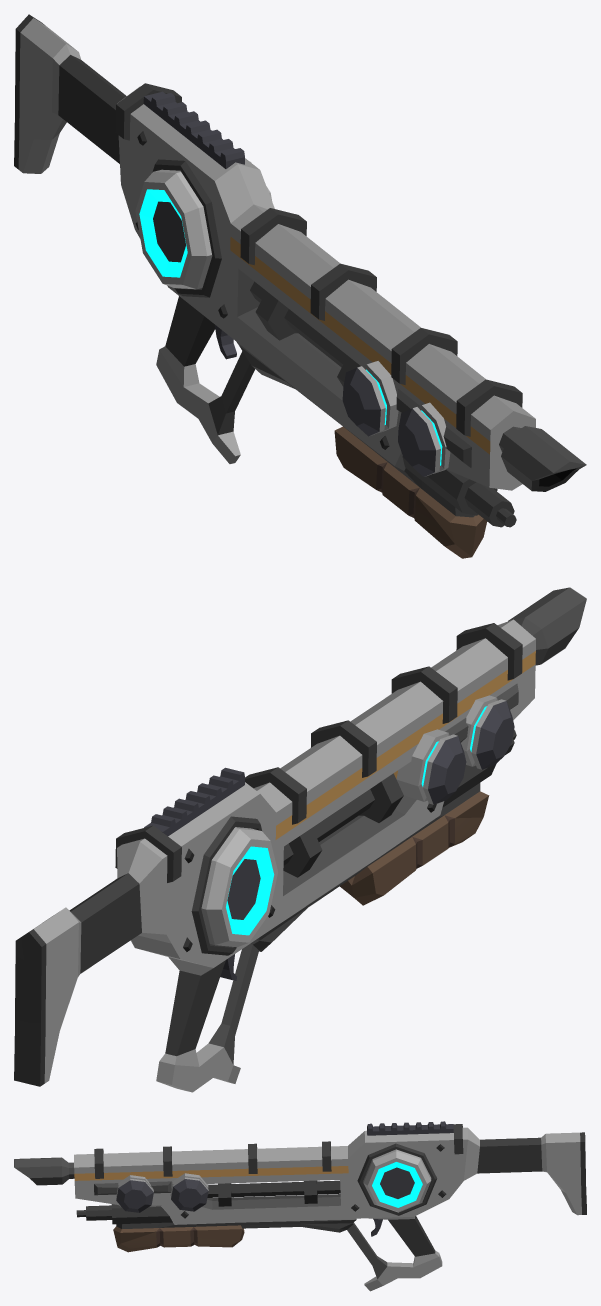
Rendered from Weapon14.fbx.
3 renders of one model, top to bottom at view 1: azimuth 30°, elevation 25°; view 2: azimuth 150°, elevation 25°; view 3: azimuth 270°, elevation 25°, orthographic. The views are drawn at different scales.
Visible parts, largest first — view 1: SM_Wep_Rifle_Laser_01, SM_Wep_Rifle_Laser_Mag_01, SM_Wep_Mag_Round_01, SM_Wep_Mag_Round_01__1_; view 2: SM_Wep_Rifle_Laser_01, SM_Wep_Rifle_Laser_Mag_01, SM_Wep_Mag_Round_01, SM_Wep_Mag_Round_01__1_; view 3: SM_Wep_Rifle_Laser_01, SM_Wep_Rifle_Laser_Mag_01, SM_Wep_Mag_Round_01__3_, SM_Wep_Mag_Round_01__2_.
Part boxes in pixels (left/top/right/bottom): SM_Wep_Rifle_Laser_01: left=14, top=14, right=586, bottom=558; SM_Wep_Rifle_Laser_Mag_01: left=135, top=161, right=271, bottom=289; SM_Wep_Mag_Round_01: left=342, top=361, right=398, bottom=436; SM_Wep_Mag_Round_01__1_: left=398, top=402, right=450, bottom=476; SM_Wep_Rifle_Laser_01: left=14, top=587, right=586, bottom=1092; SM_Wep_Rifle_Laser_Mag_01: left=201, top=827, right=277, bottom=947; SM_Wep_Mag_Round_01: left=393, top=729, right=466, bottom=804; SM_Wep_Mag_Round_01__1_: left=461, top=695, right=514, bottom=769; SM_Wep_Rifle_Laser_01: left=14, top=1121, right=586, bottom=1291; SM_Wep_Rifle_Laser_Mag_01: left=363, top=1149, right=431, bottom=1212; SM_Wep_Mag_Round_01__3_: left=170, top=1173, right=208, bottom=1211; SM_Wep_Mag_Round_01__2_: left=116, top=1175, right=153, bottom=1212.
Size of the model in its own units: 34.64 by 102 by 318.
